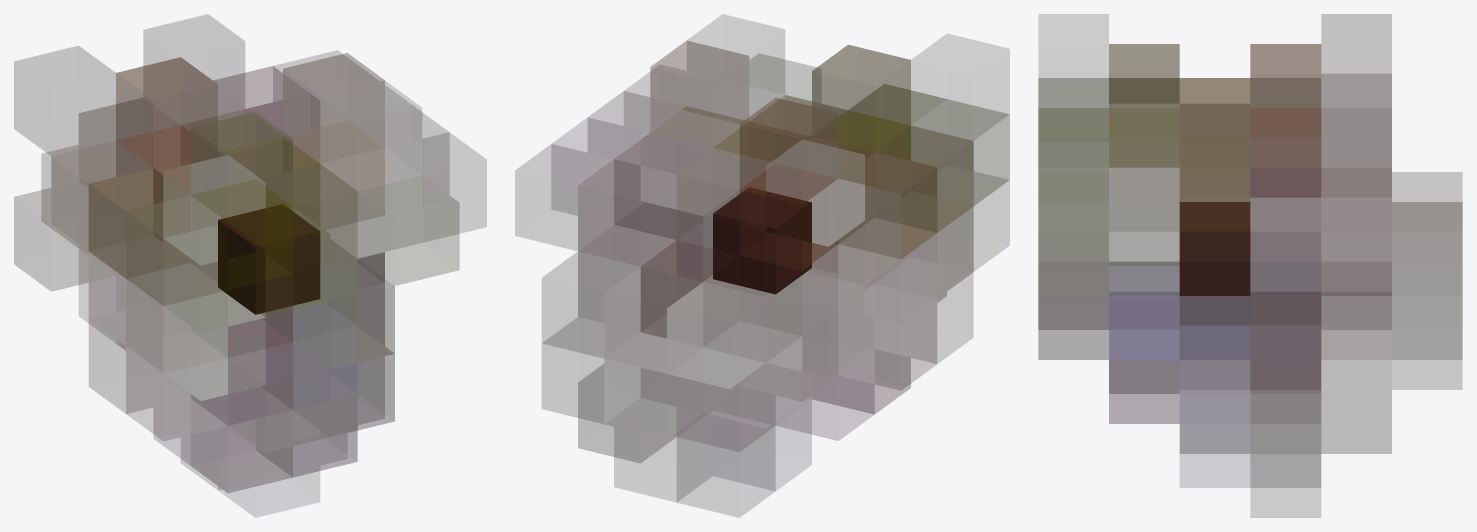
File: iter_5.obj
The picture shows the model from 3 angles, left to right: view 1: azimuth 30°, elevation 25°; view 2: azimuth 150°, elevation 25°; view 3: azimuth 270°, elevation 25°; orthographic projection. The views are drawn at different scales.
Visible parts, largest first — view 1: iter_5; view 2: iter_5; view 3: iter_5.
Part boxes in pixels (x1,y1,x2,y2): iter_5: [14, 14, 486, 517]; iter_5: [515, 14, 1009, 517]; iter_5: [1038, 14, 1462, 517].
Size of the model in its own units: 0.5 by 0.6 by 0.6.
